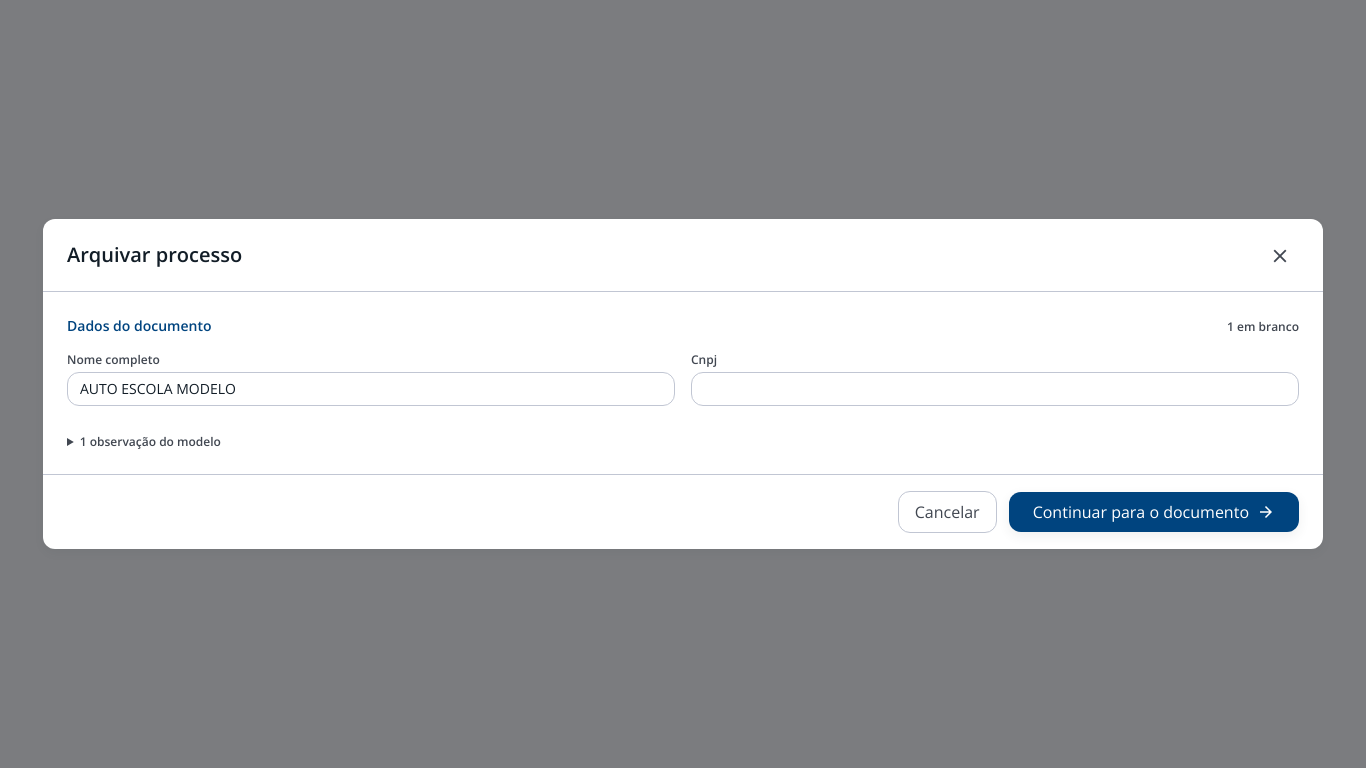
Test: DespachoModal - mala direta › "Rever dados" volta ao formulário e refaz o documento do modelo
The width and height of the screenshot is (1366, 768).
Expected: the field showing "AUTO ESCOLA MODELO" is shown, [67, 372, 675, 406]
Click the button "Continuar para o documento" at (1154, 512), box [1009, 492, 1299, 532]
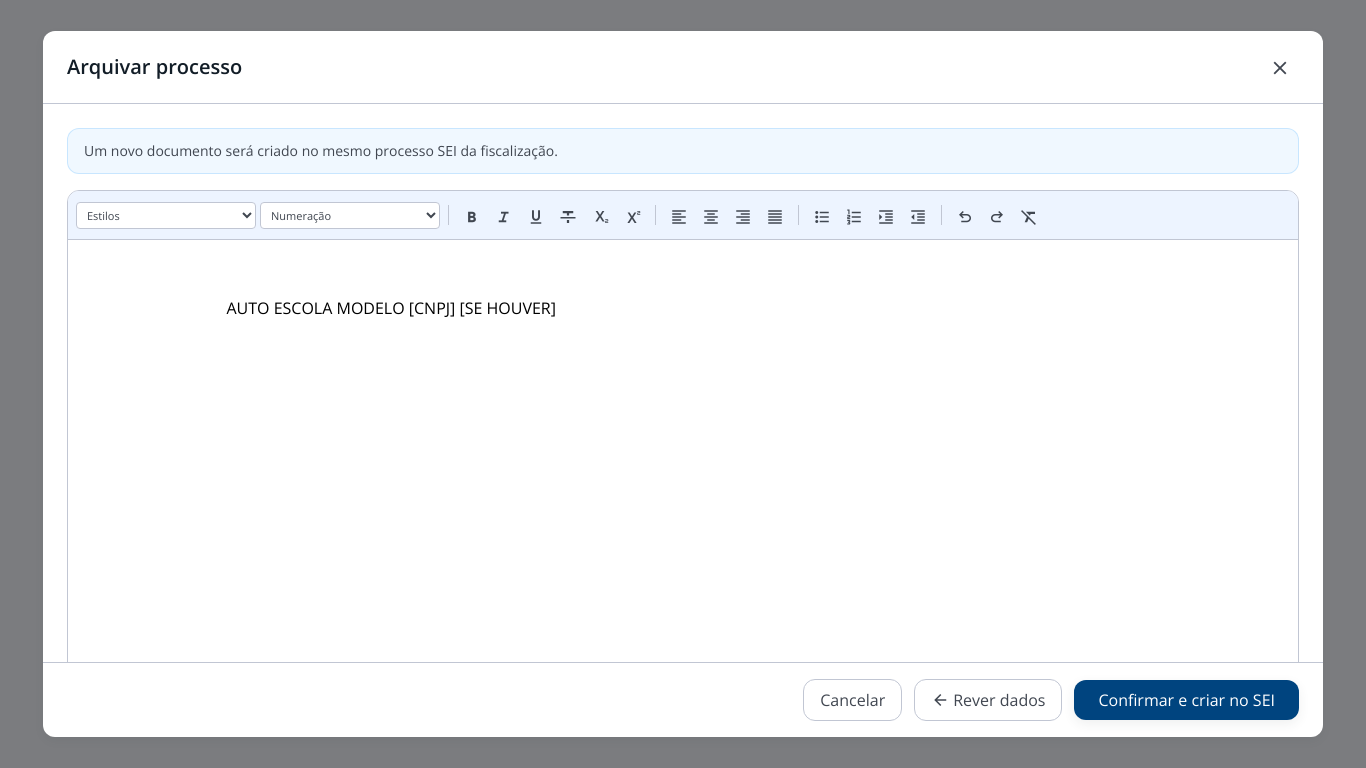
Expected: the text box named "Editor do documento" is shown, [68, 240, 1298, 662]
Click the button "Rever dados" at (988, 700), box [914, 679, 1062, 721]
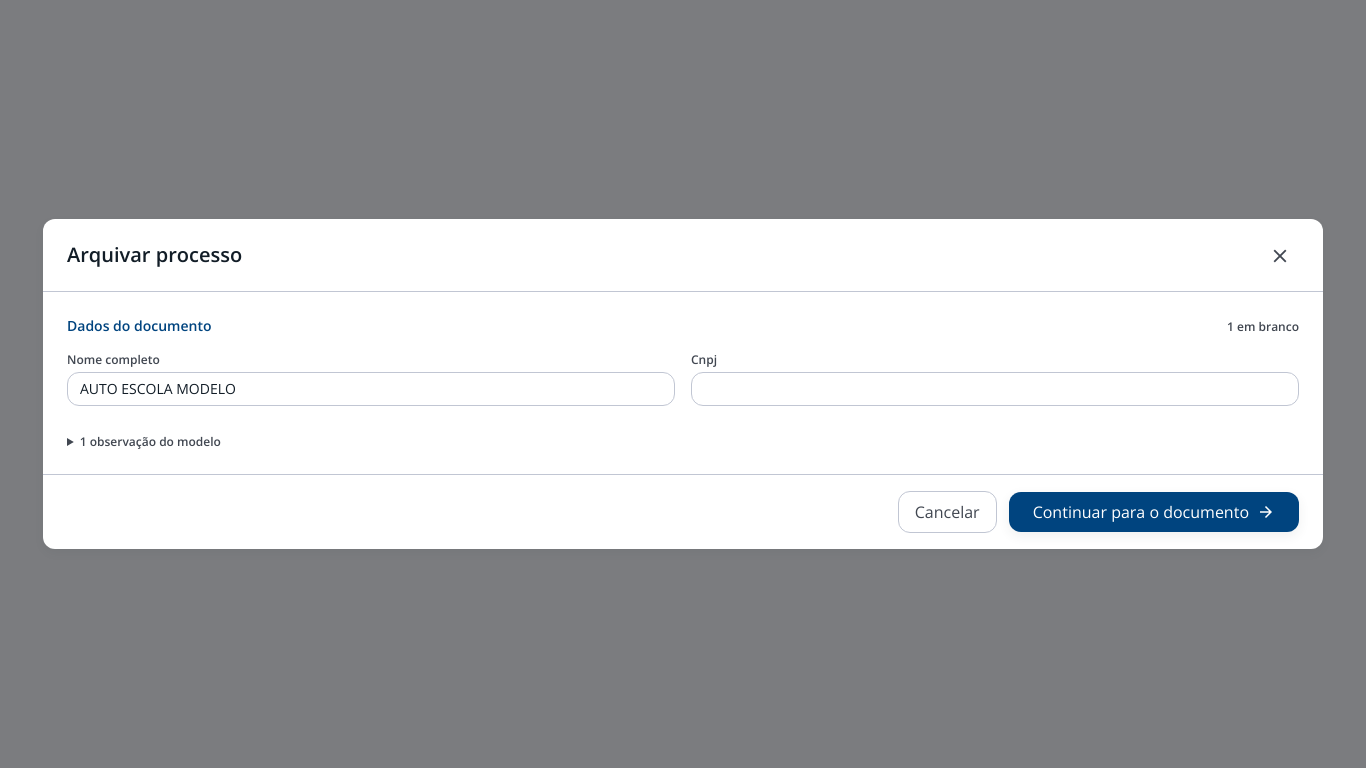
Replace the text in the field showing "AUTO ESCOLA MODELO" with "OUTRA EMPRESA" at (371, 389), box [67, 372, 675, 406]
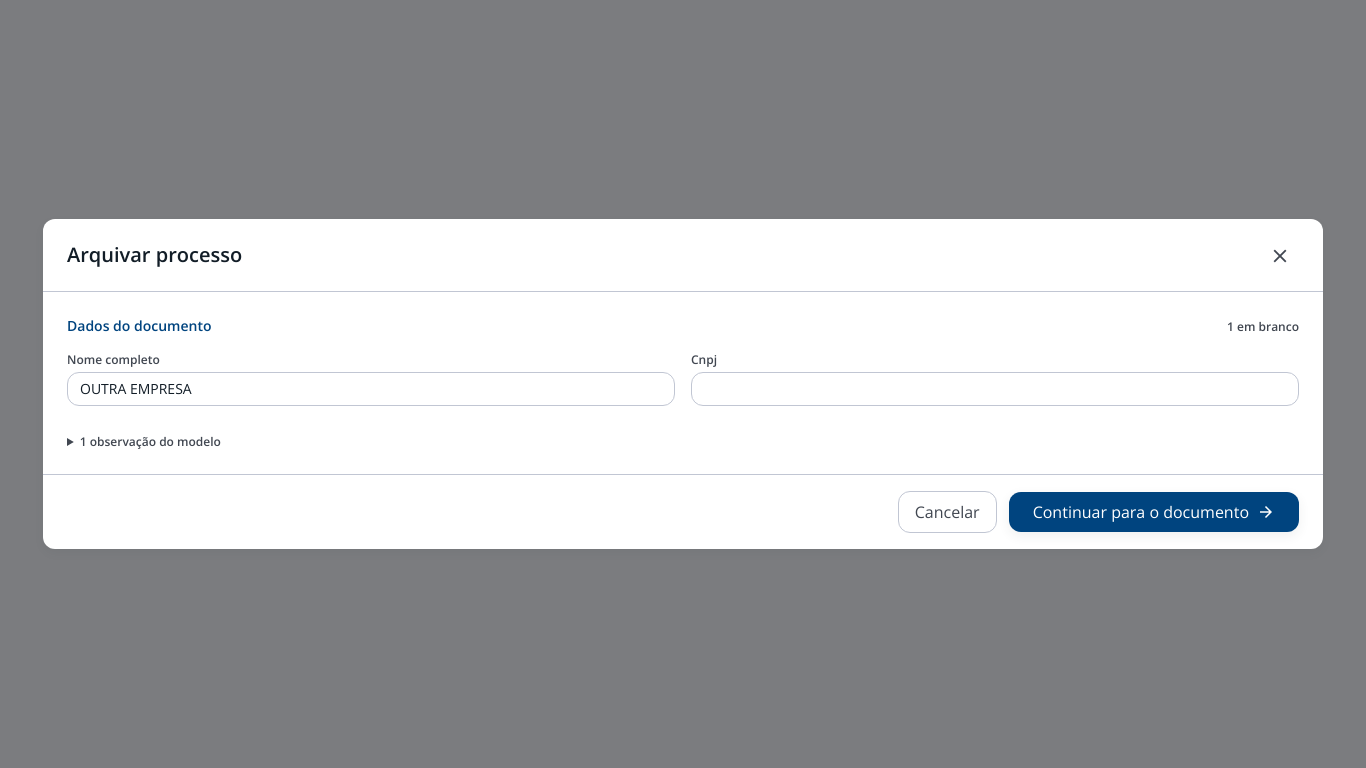
Click the button "Continuar para o documento" at (1154, 512), box [1009, 492, 1299, 532]
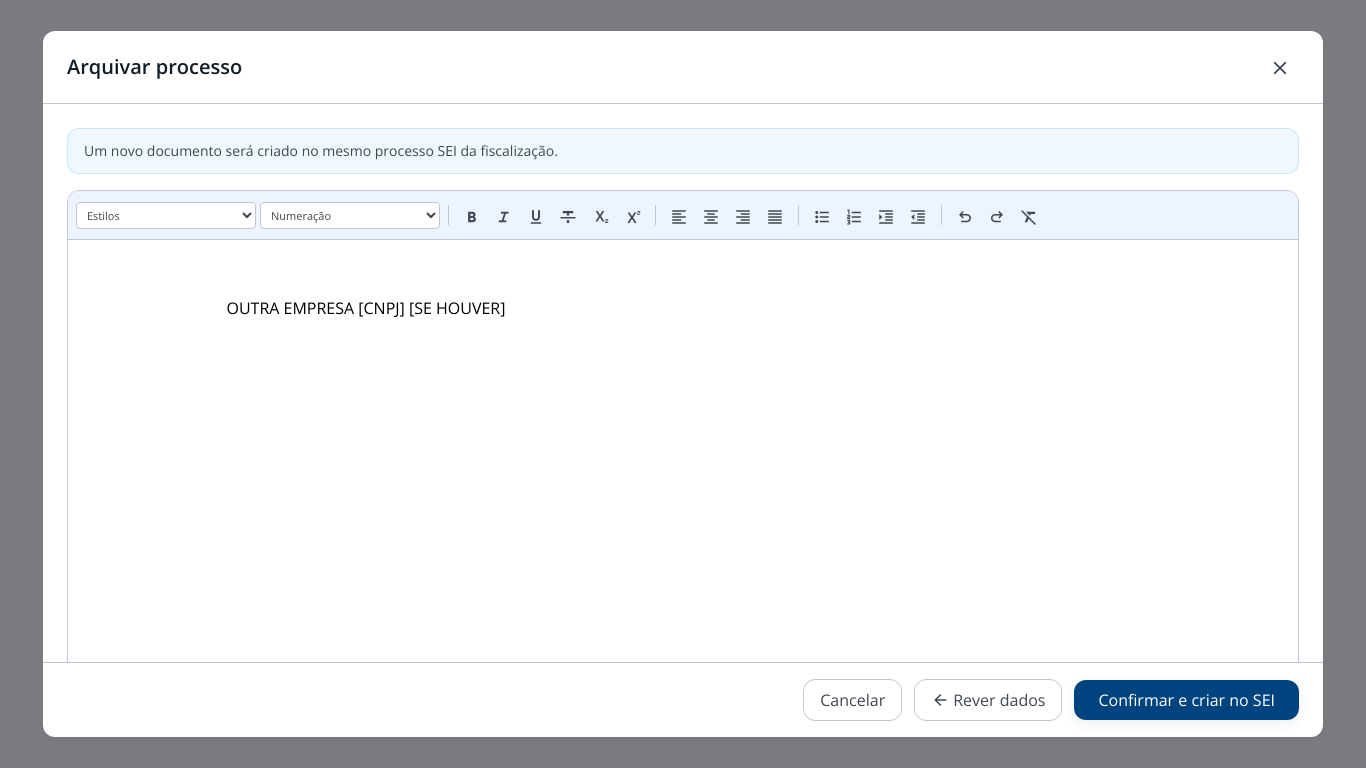
Expected: the text box labelled "Editor do documento" does not show "AUTO ESCOLA MODELO"
Expected: the text box named "Editor do documento" shows "OUTRA EMPRESA", [68, 240, 1298, 662]
